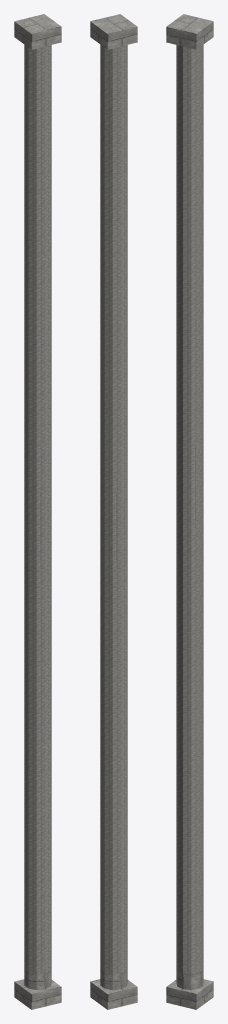
Rendered from pillar.gltf.
3 views of the same model, side by side, from view 1: azimuth 30°, elevation 25°; view 2: azimuth 210°, elevation 25°; view 3: azimuth 330°, elevation 25° (orthographic).
Parts seen in each view (by area): view 1: Cube; view 2: Cube; view 3: Cube.
Boxes of the visible parts, box(x1,y1,x2,y2) form: Cube: box(14, 14, 61, 1009); Cube: box(90, 14, 137, 1009); Cube: box(166, 14, 213, 1009).
Bounding box in the file's own units: 1 × 31 × 1.
Materials: 1 (1 with a texture image).
